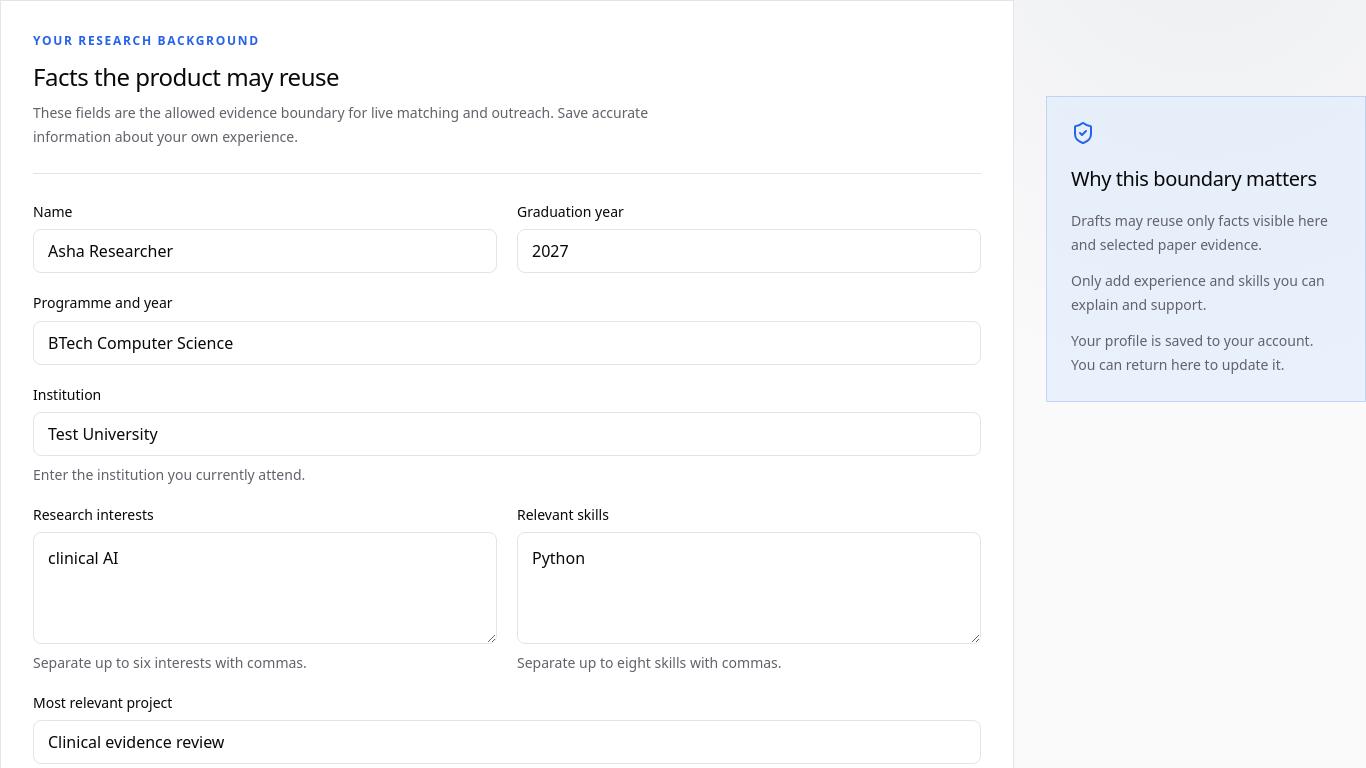
Test: account profile editing › saves real account facts and updates only the signed-in profile cache
This screenshot has width=1366, height=768.
Replace the text in the field labelled "Name" with "Asha Updated" at (265, 251), box [33, 229, 497, 273]
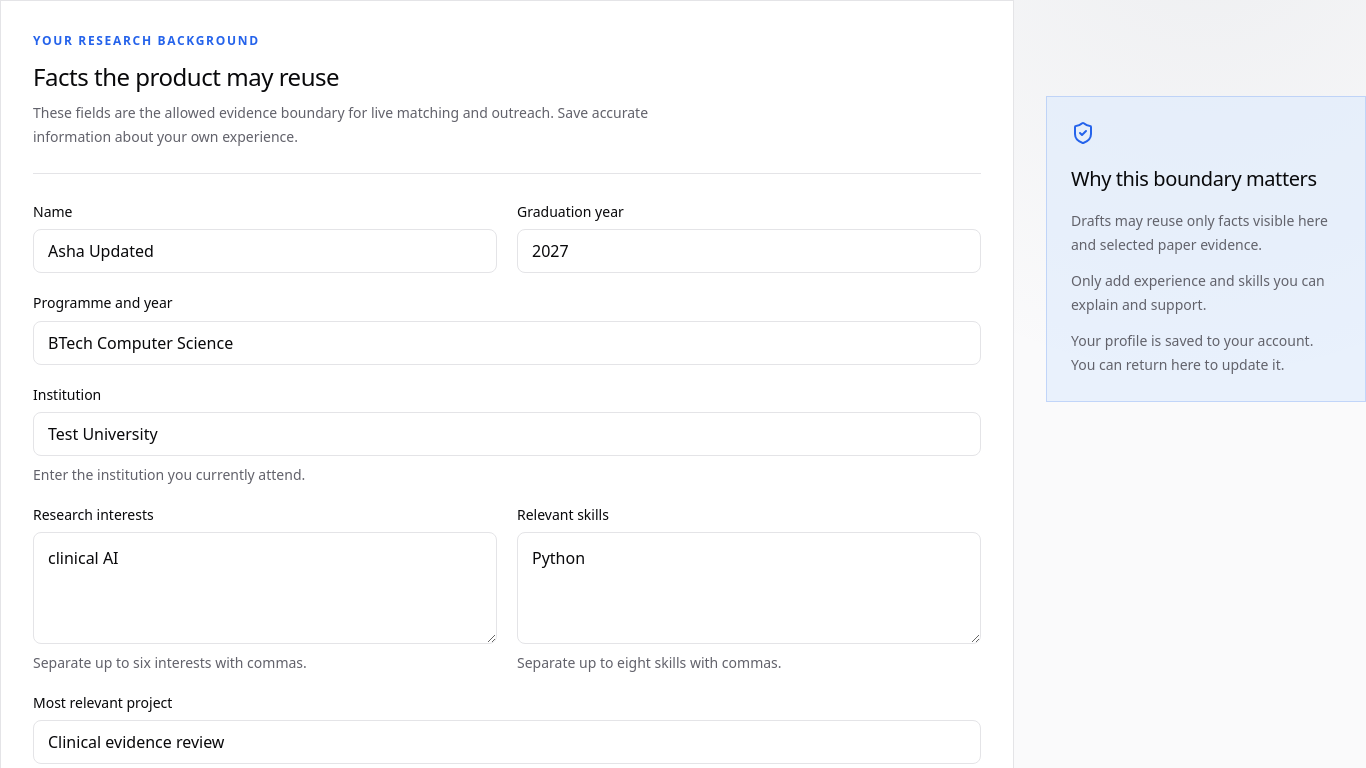
Replace the text in the text box labelled "Research interests" with "clinical AI, human-centred AI" at (265, 588), box [33, 532, 497, 644]
(page scrolled)
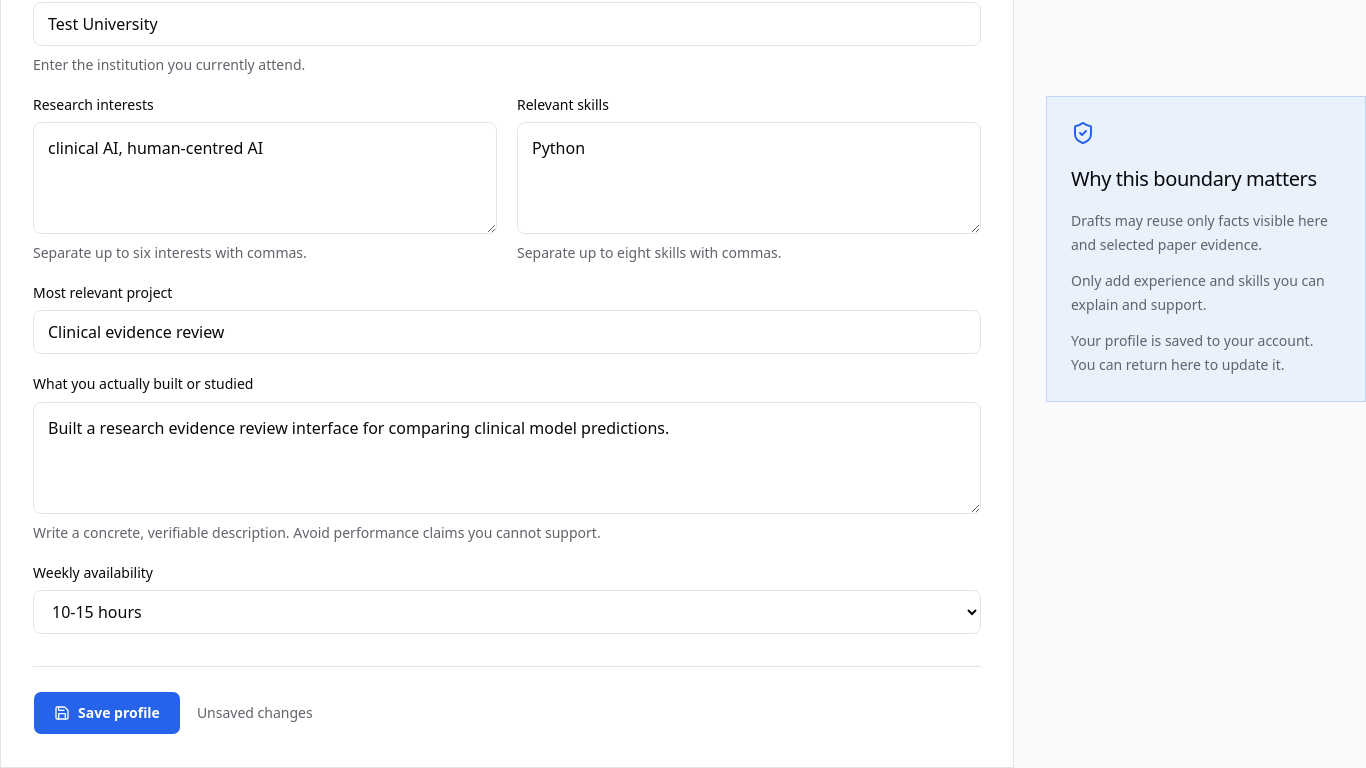
Click the button "Save profile" at (107, 713), box [33, 691, 181, 735]
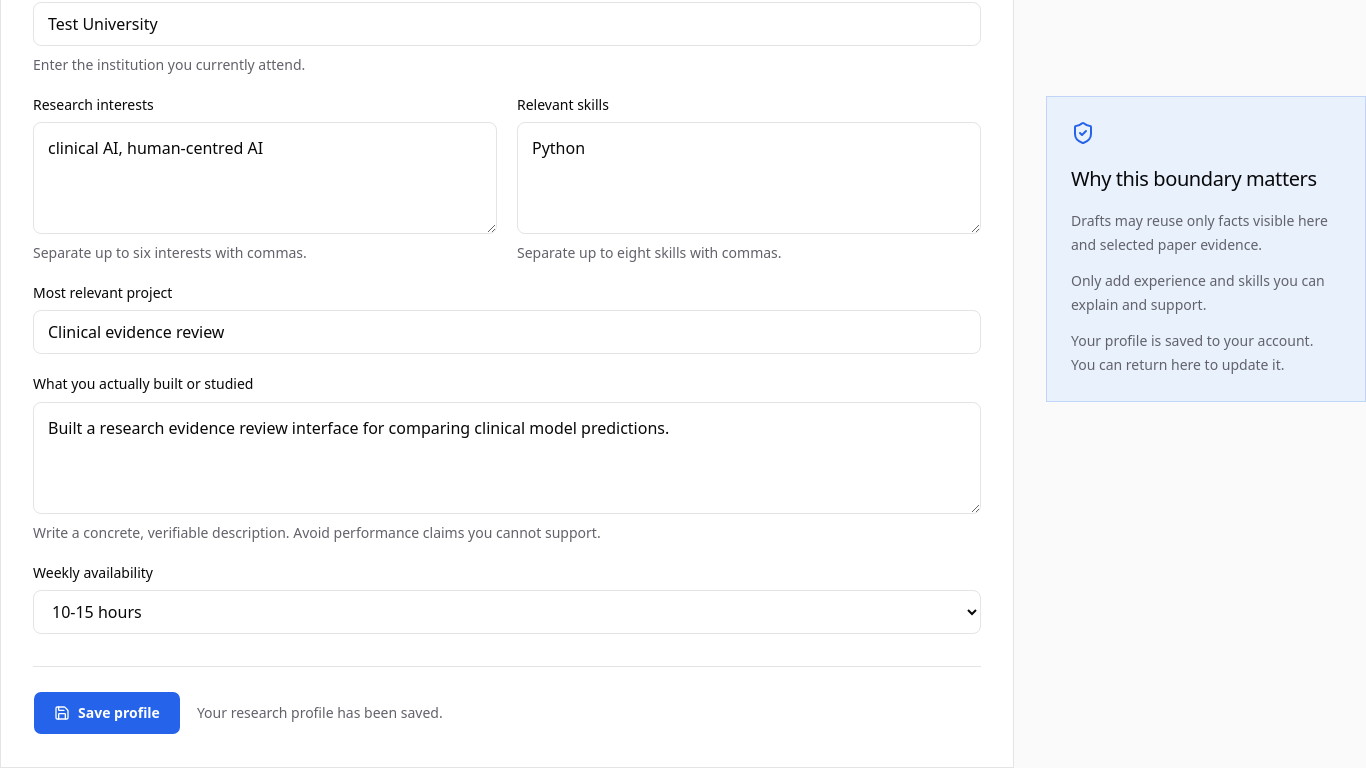
Expected: the text "Your research profile has been saved." is shown, [197, 703, 443, 723]
